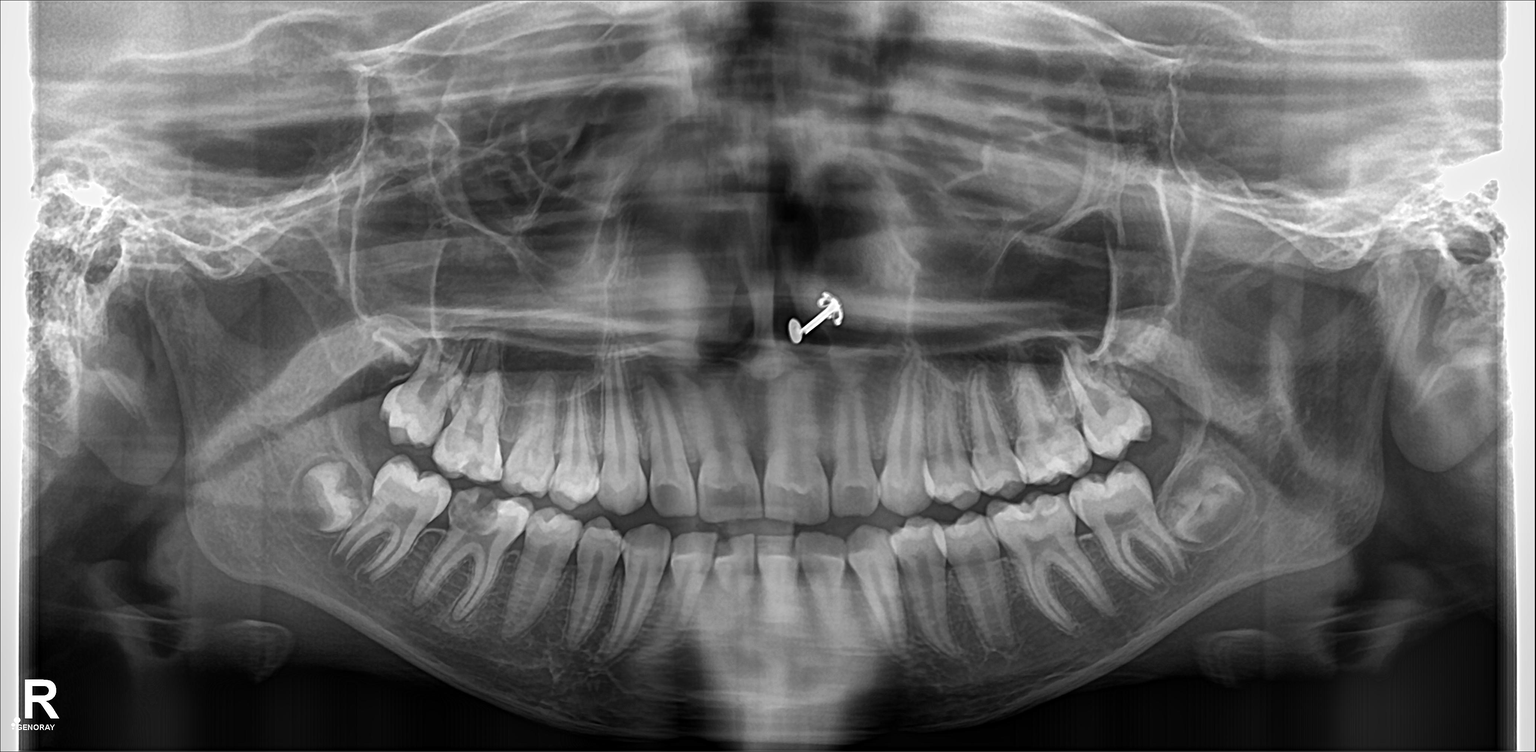Dental Caries: (452, 491, 499, 536)
Impacted Third Molar: (1168, 463, 1259, 559), (292, 460, 361, 535)
Missing Tooth: (1136, 339, 1187, 420), (352, 354, 390, 429)
